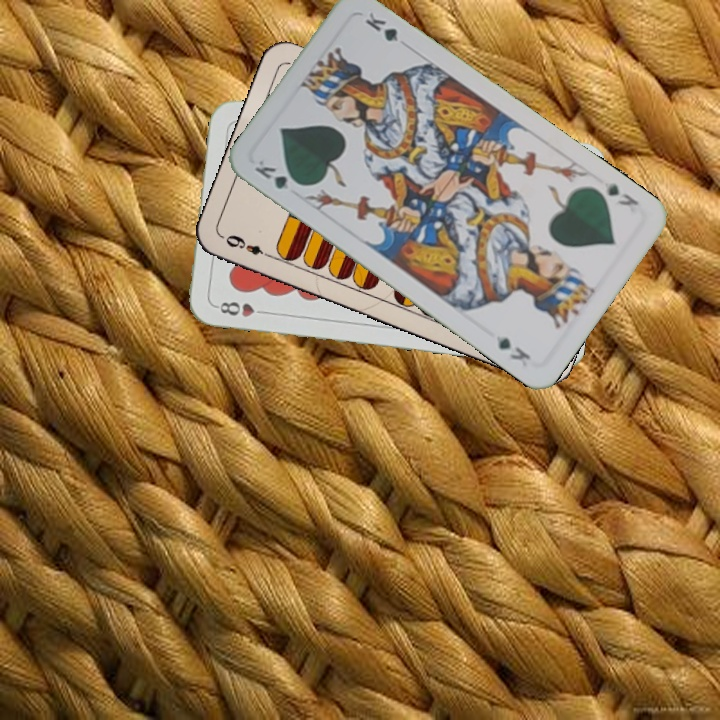E9: (221, 230, 275, 261)
GK: (249, 155, 305, 193), (602, 178, 642, 209)
H8: (211, 297, 270, 320)
